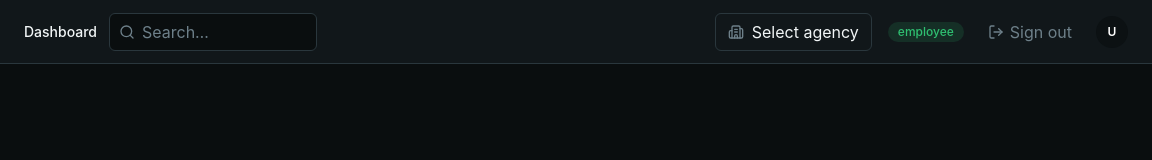
Test: Topbar navigation search › hides targets the current role cannot see
Type "billing" into the search field named "search navigation".
click(213, 32); type("billing")  # box left=109, top=12, right=317, bottom=50
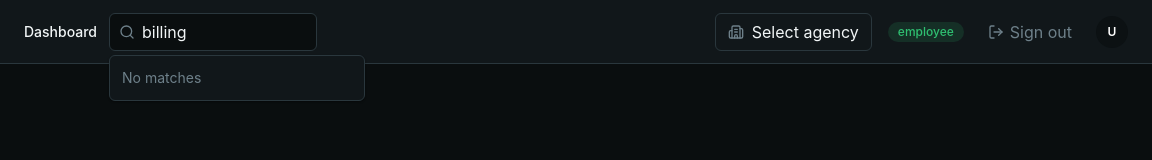
Result: the text "No matches" is shown at left=122, top=68, right=201, bottom=86
